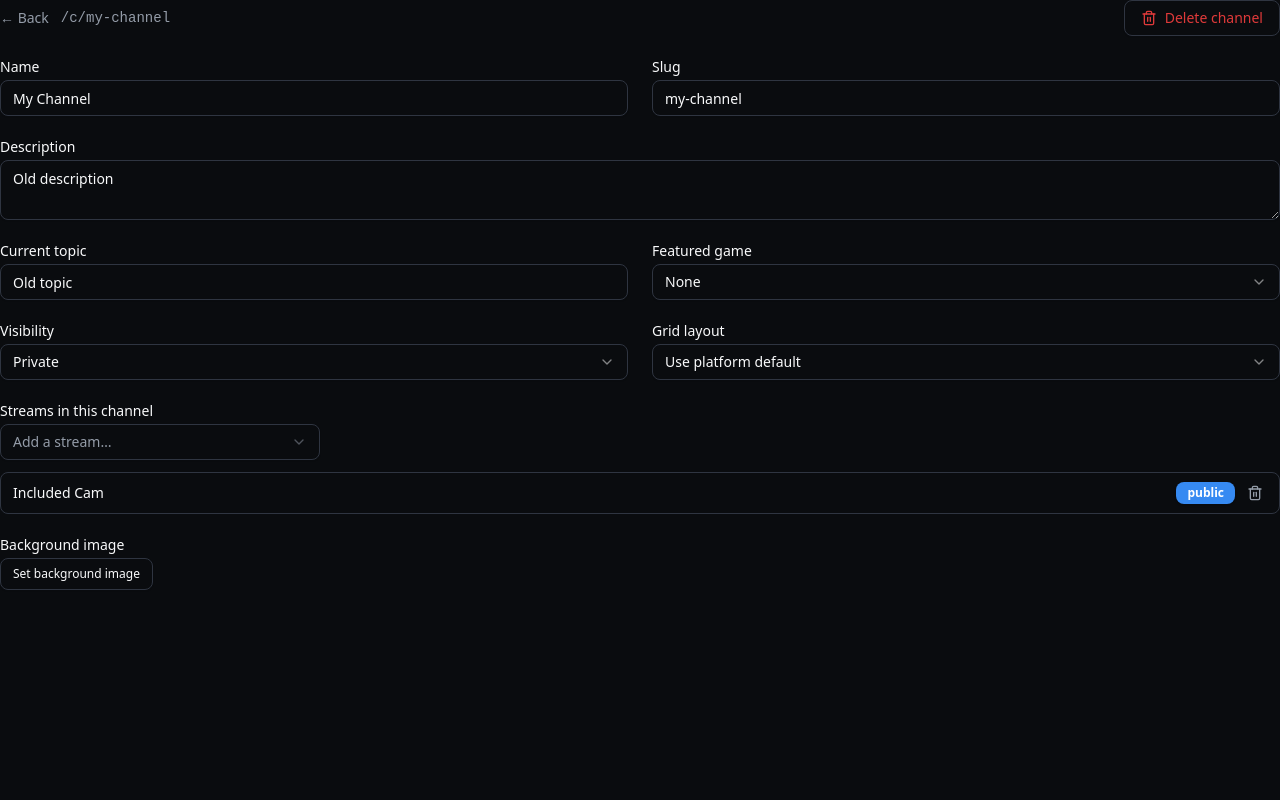
ChannelEditForm › filters the picker candidates by visibility
Click the dropdown labelled "Add a stream": (62, 442) [0, 424, 320, 460]
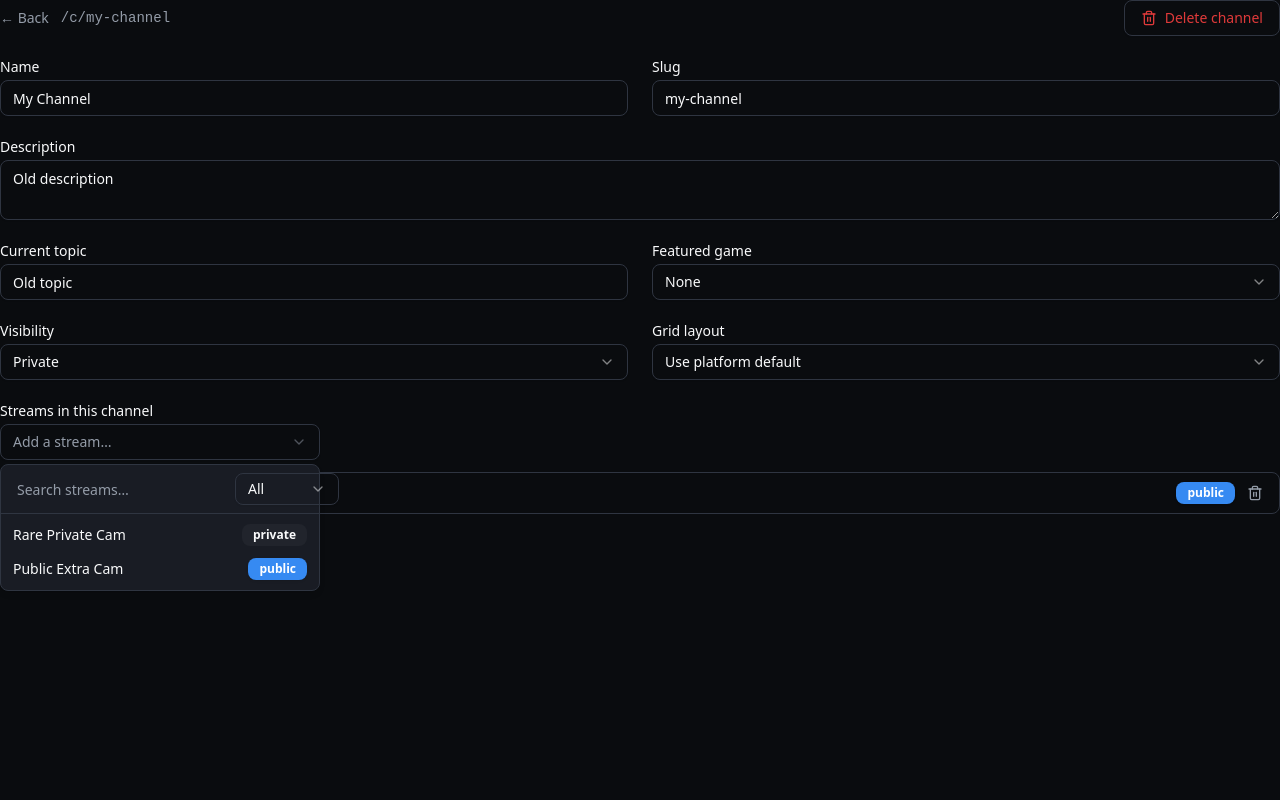
Now the option "Rare Private Cam private" is shown, box [5, 518, 315, 552]
Now the option "Public Extra Cam public" is shown, box [5, 552, 315, 586]
Click the dropdown named "Filter by visibility": (287, 489) [235, 473, 339, 505]
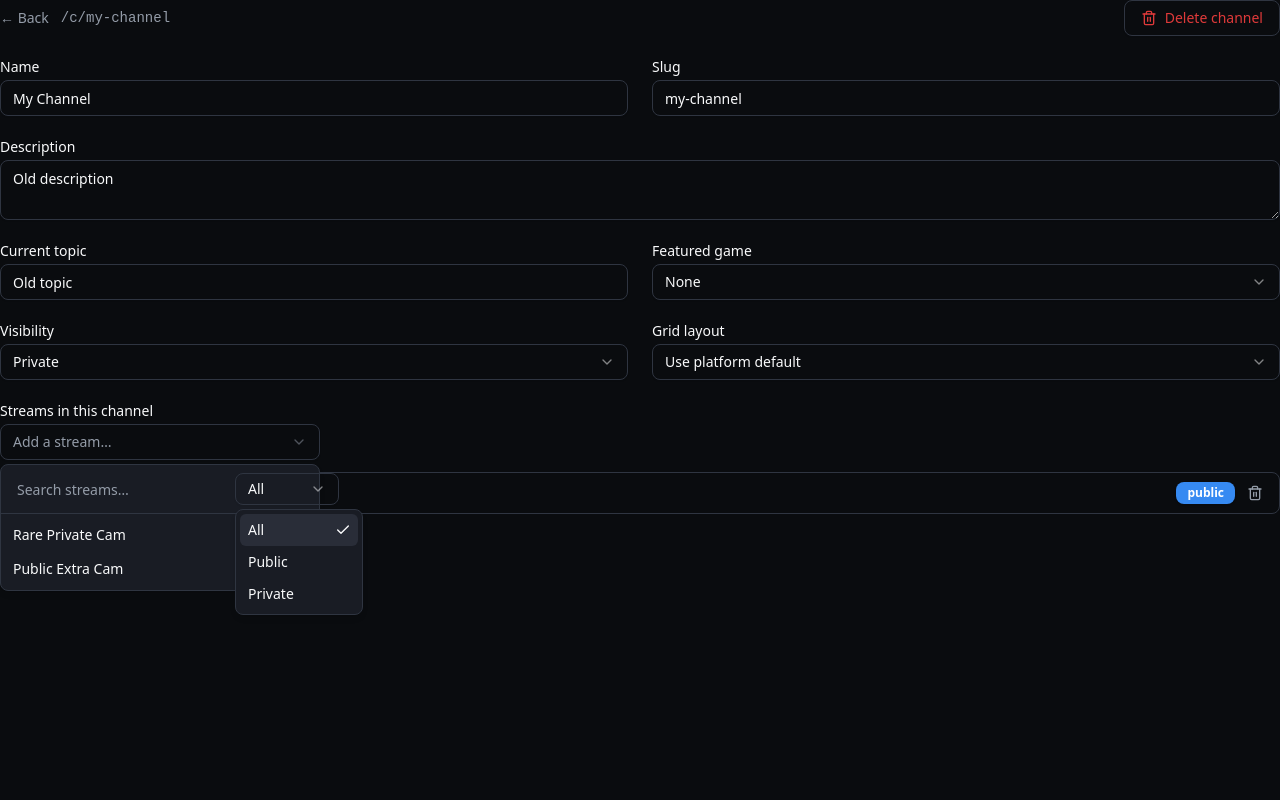
Click the option "Public": (268, 562) [248, 552, 288, 571]
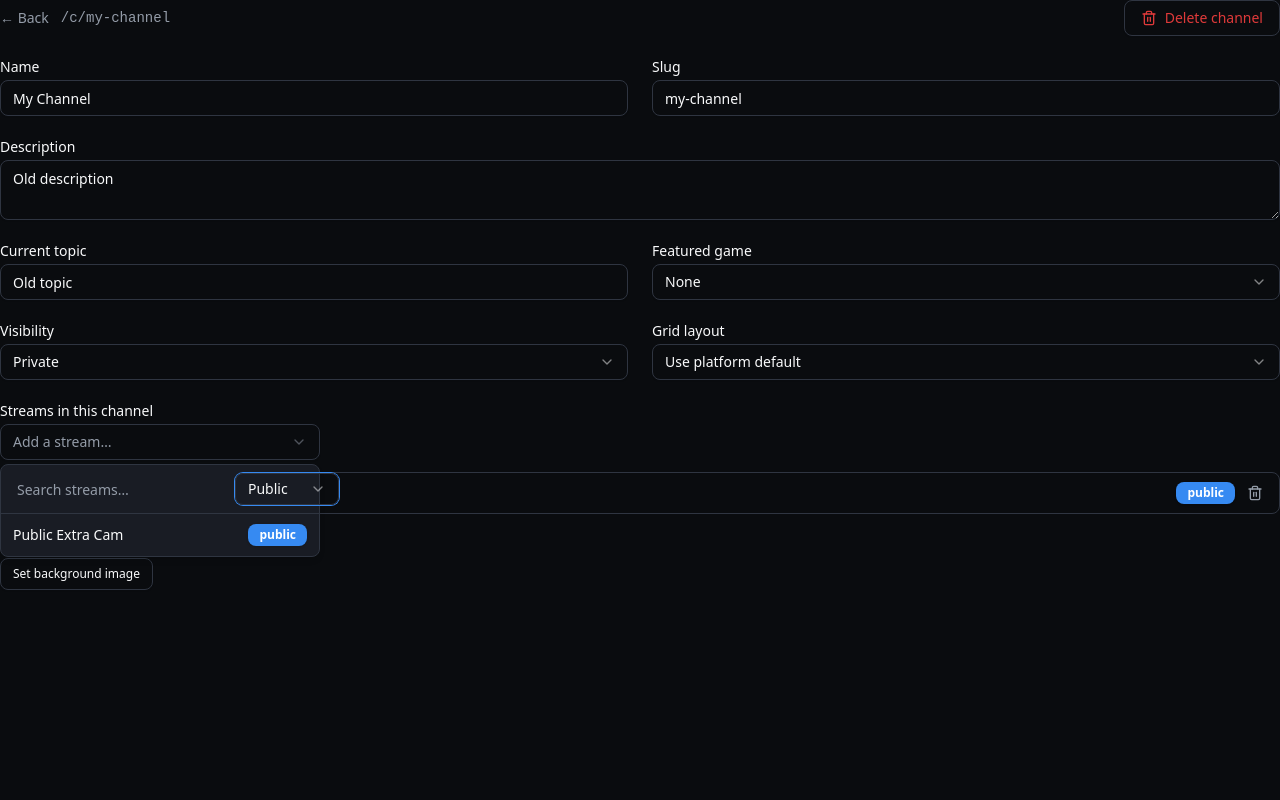
Now the option "Public Extra Cam public" is shown, box [5, 518, 315, 552]
Now the option "Rare Private Cam" is gone
